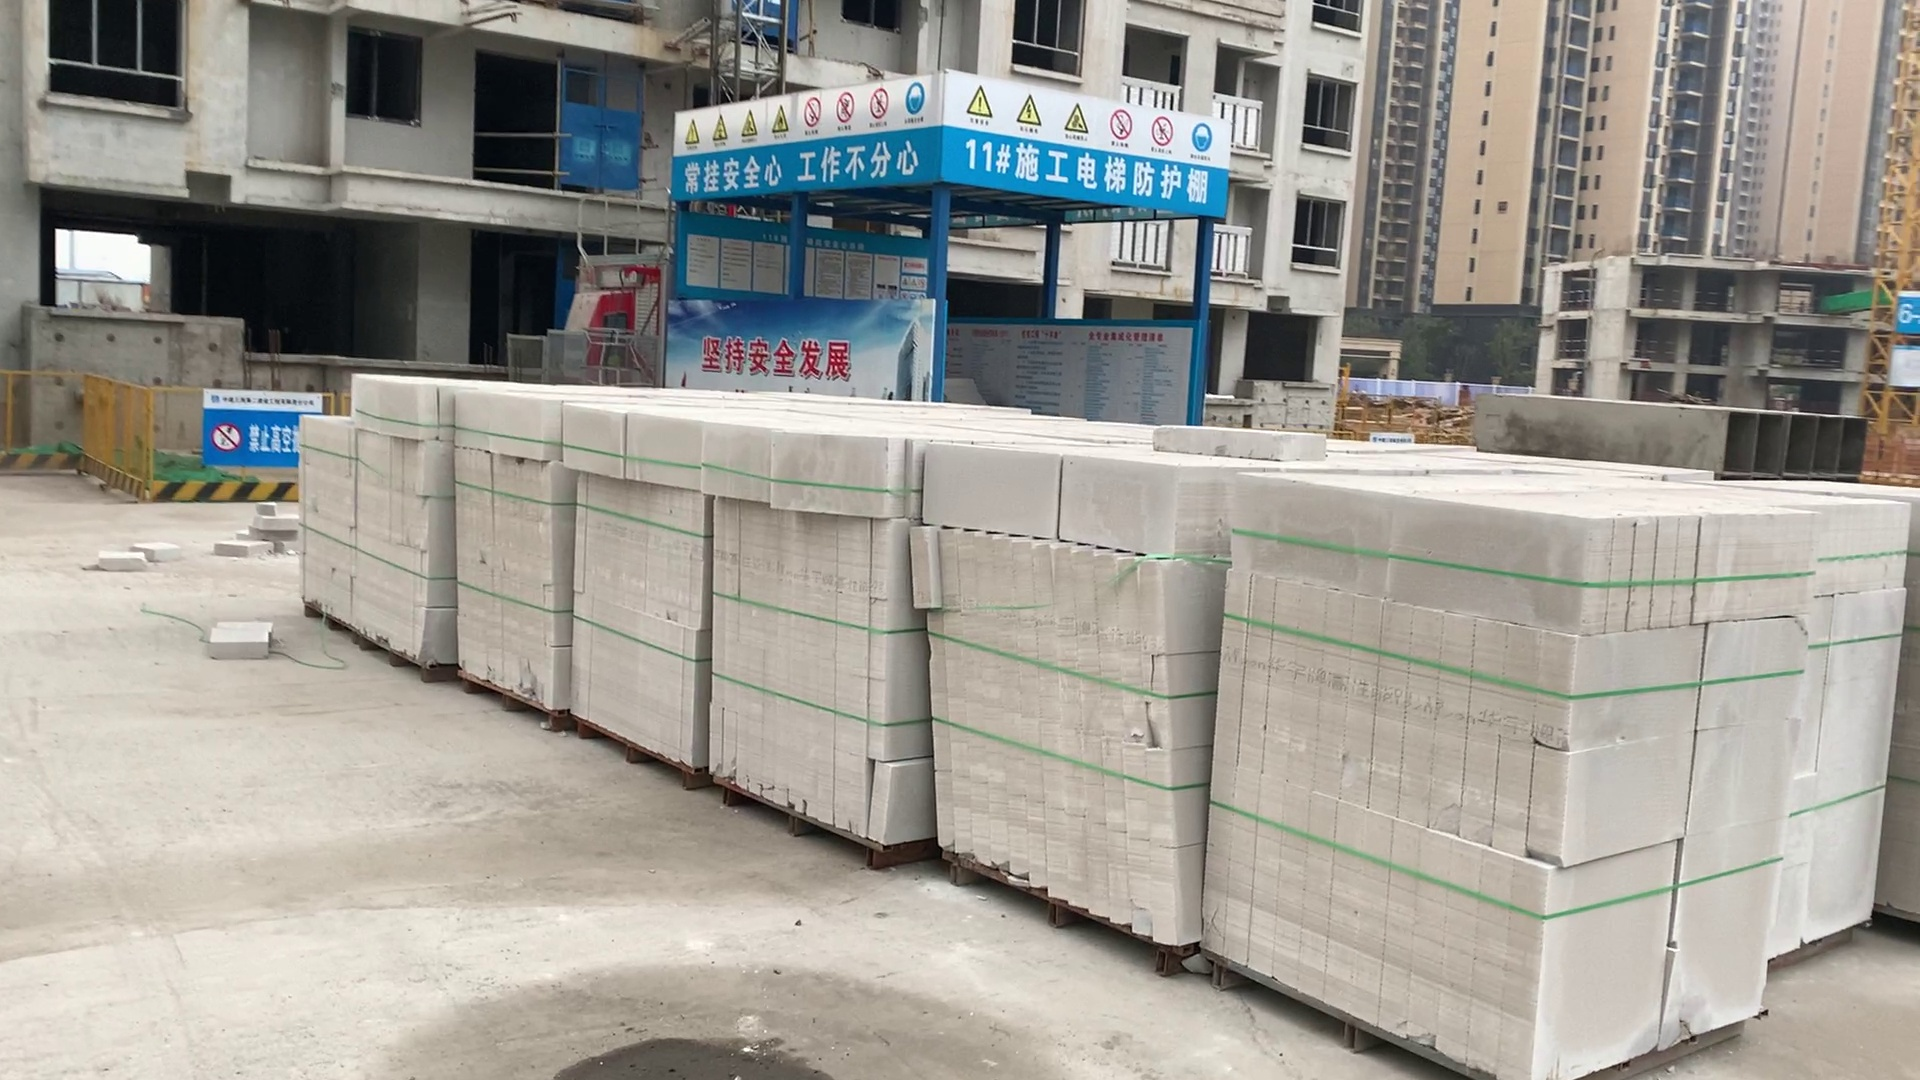brickwork: (1222, 469, 1788, 1069), (919, 448, 1187, 952), (711, 419, 913, 862), (568, 406, 708, 764), (1789, 496, 1892, 949), (452, 385, 574, 709), (349, 376, 436, 661), (289, 418, 356, 612)
